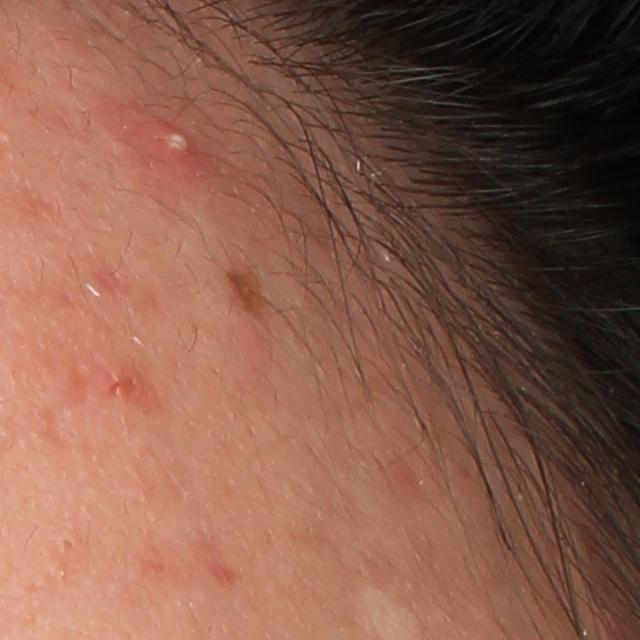comedo: (58, 534, 78, 554)
pustule: (134, 111, 208, 168)
